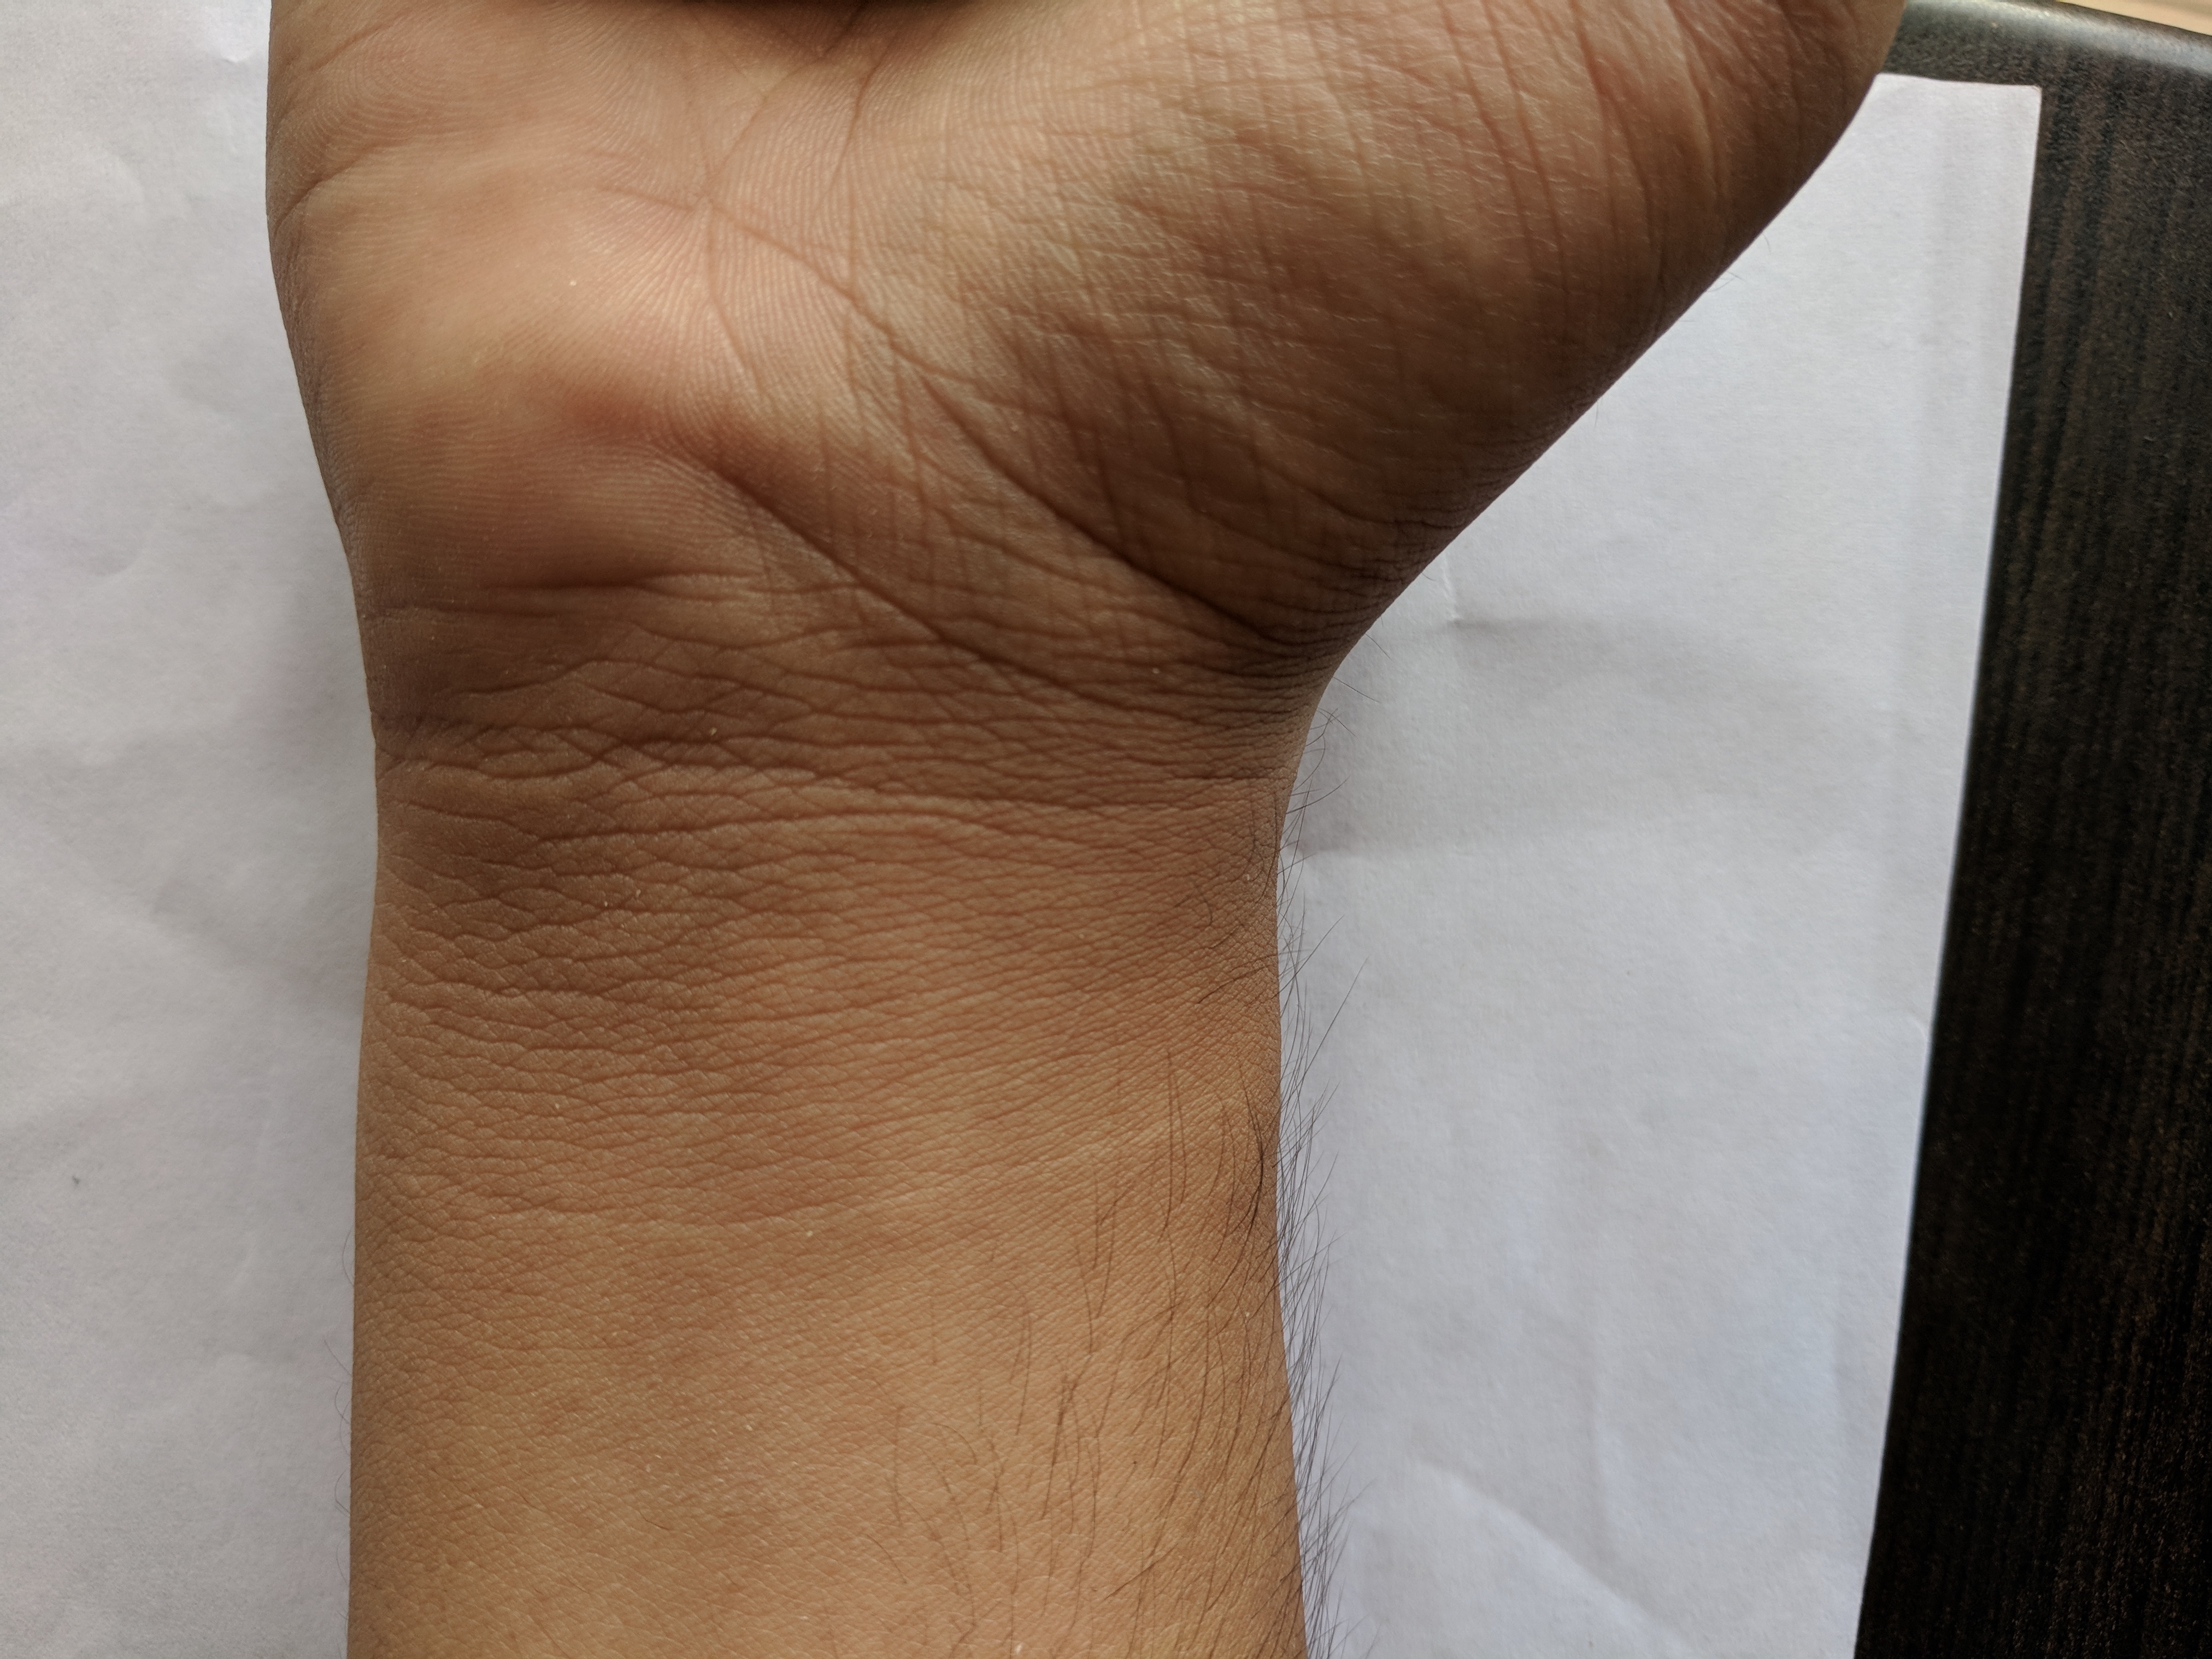righthandwrist: (357, 608, 1386, 1016)
